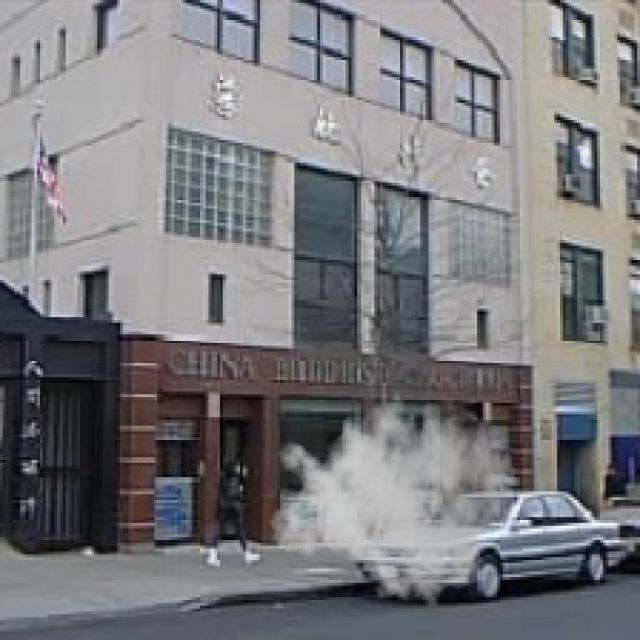Smoke: (268, 380, 518, 614)
